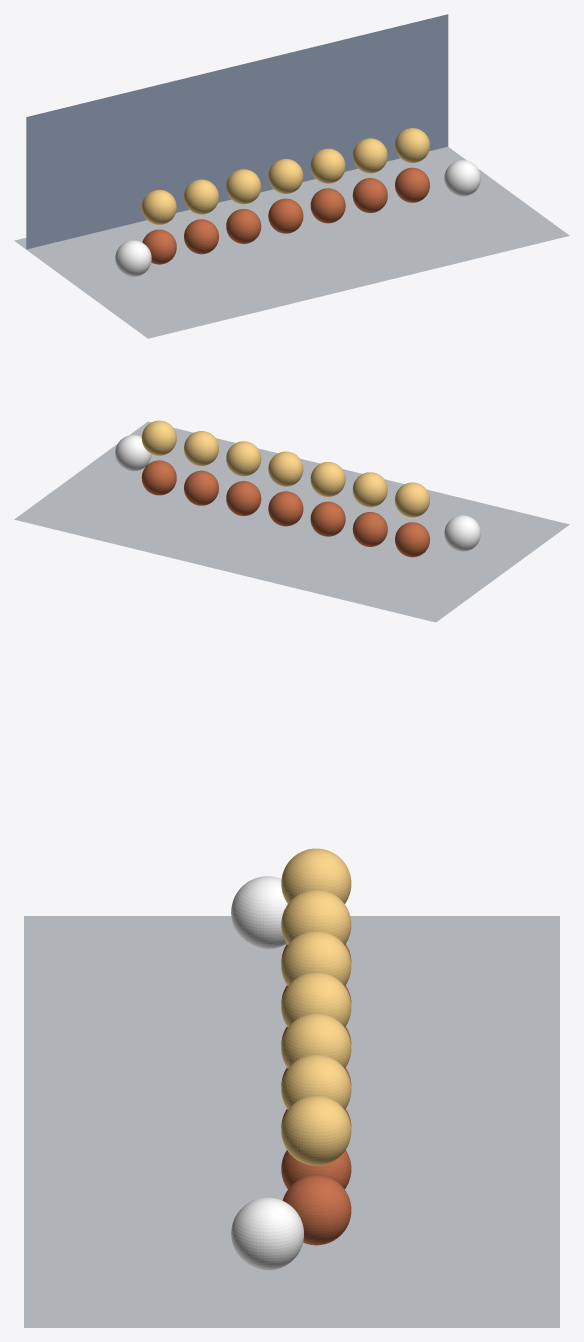
The model's file is gallery.gltf.
3 views of the same model, one above another, from view 1: azimuth 30°, elevation 25°; view 2: azimuth 150°, elevation 25°; view 3: azimuth 270°, elevation 25° (orthographic). The views are drawn at different scales.
Visible parts, largest first — view 1: back, floor, glass_left, glass_right, row0_r0.4, row1_r0.4, row0_r0.2, row1_r0, row1_r0.08, row1_r0.2, row1_r0.7, row0_r0.02 (+6 smaller); view 2: floor, glass_left, row0_r0.2, row1_r0.2, row0_r0.08, row1_r0.02, row1_r1, glass_right, row1_r0.4, row0_r1, row1_r0.08, row0_r0 (+5 smaller); view 3: floor, glass_right, row1_r1, row0_r1, glass_left, row1_r0.4, row1_r0.2, row1_r0, row1_r0.02, row1_r0.7, row1_r0.08, row0_r0.7.
Part boxes in pixels (bbox=[...]): back: bbox=[26, 14, 448, 249]; floor: bbox=[14, 147, 569, 338]; glass_left: bbox=[115, 240, 151, 276]; glass_right: bbox=[444, 160, 480, 196]; row0_r0.4: bbox=[310, 188, 345, 223]; row1_r0.4: bbox=[310, 148, 345, 183]; row0_r0.2: bbox=[268, 198, 303, 233]; row1_r0: bbox=[141, 189, 176, 224]; row1_r0.08: bbox=[226, 169, 261, 204]; row1_r0.2: bbox=[268, 159, 303, 193]; row1_r0.7: bbox=[352, 138, 387, 173]; row0_r0.02: bbox=[184, 219, 218, 254]; floor: bbox=[14, 421, 569, 622]; glass_left: bbox=[444, 515, 480, 551]; row0_r0.2: bbox=[268, 491, 303, 526]; row1_r0.2: bbox=[268, 451, 303, 486]; row0_r0.08: bbox=[310, 501, 345, 536]; row1_r0.02: bbox=[352, 472, 387, 507]; row1_r1: bbox=[141, 420, 176, 455]; glass_right: bbox=[115, 435, 151, 471]; row1_r0.4: bbox=[226, 441, 261, 476]; row0_r1: bbox=[141, 460, 176, 495]; row1_r0.08: bbox=[310, 462, 345, 496]; row0_r0: bbox=[395, 522, 429, 557]; floor: bbox=[24, 916, 559, 1327]; glass_right: bbox=[231, 1197, 303, 1270]; row1_r1: bbox=[281, 1095, 351, 1165]; row0_r1: bbox=[282, 1175, 351, 1245]; glass_left: bbox=[231, 876, 287, 949]; row1_r0.4: bbox=[281, 1013, 351, 1068]; row1_r0.2: bbox=[281, 972, 351, 1027]; row1_r0: bbox=[281, 848, 351, 903]; row1_r0.02: bbox=[281, 889, 351, 944]; row1_r0.7: bbox=[281, 1054, 351, 1109]; row1_r0.08: bbox=[281, 931, 351, 986]; row0_r0.7: bbox=[281, 1150, 351, 1189].
Size of the model in its own units: 20 by 6 by 11.
